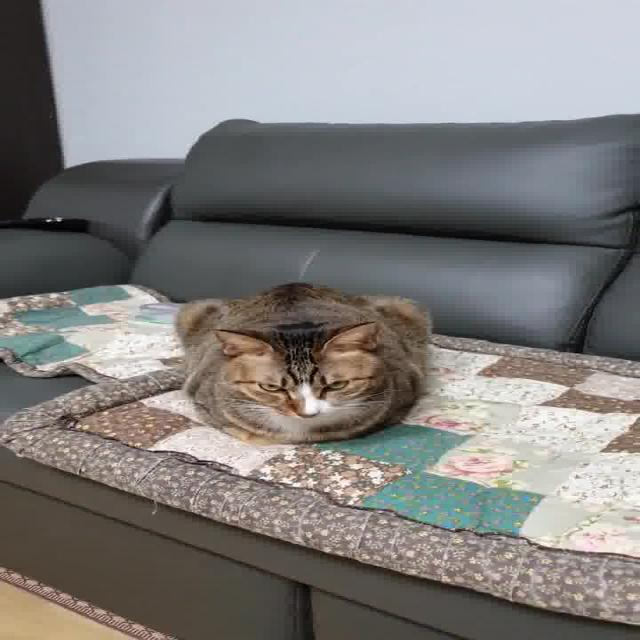cat: (146, 277, 448, 446)
